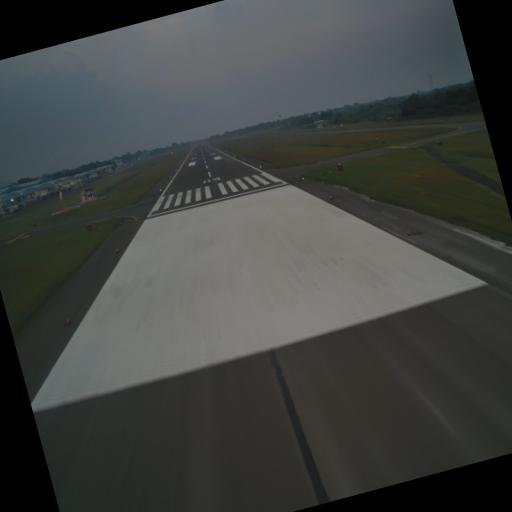on: (62, 312, 72, 326), (403, 224, 412, 238), (113, 244, 120, 254), (328, 192, 334, 200)
